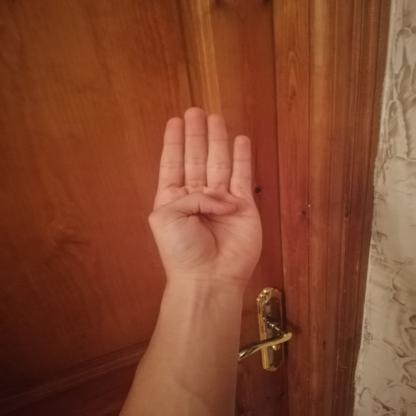KAAF: (127, 96, 278, 301)
